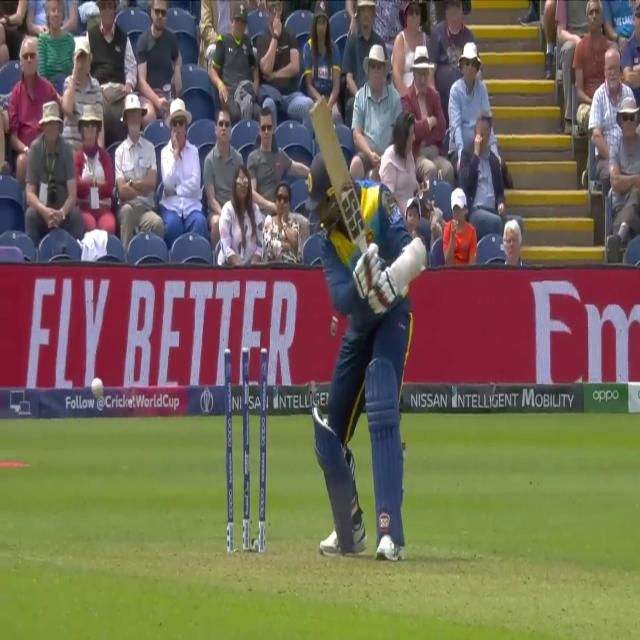ball: (89, 372, 105, 399)
